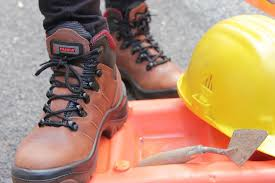Helmet: (178, 12, 275, 145)
Shoes: (9, 29, 138, 183), (101, 9, 177, 86)
